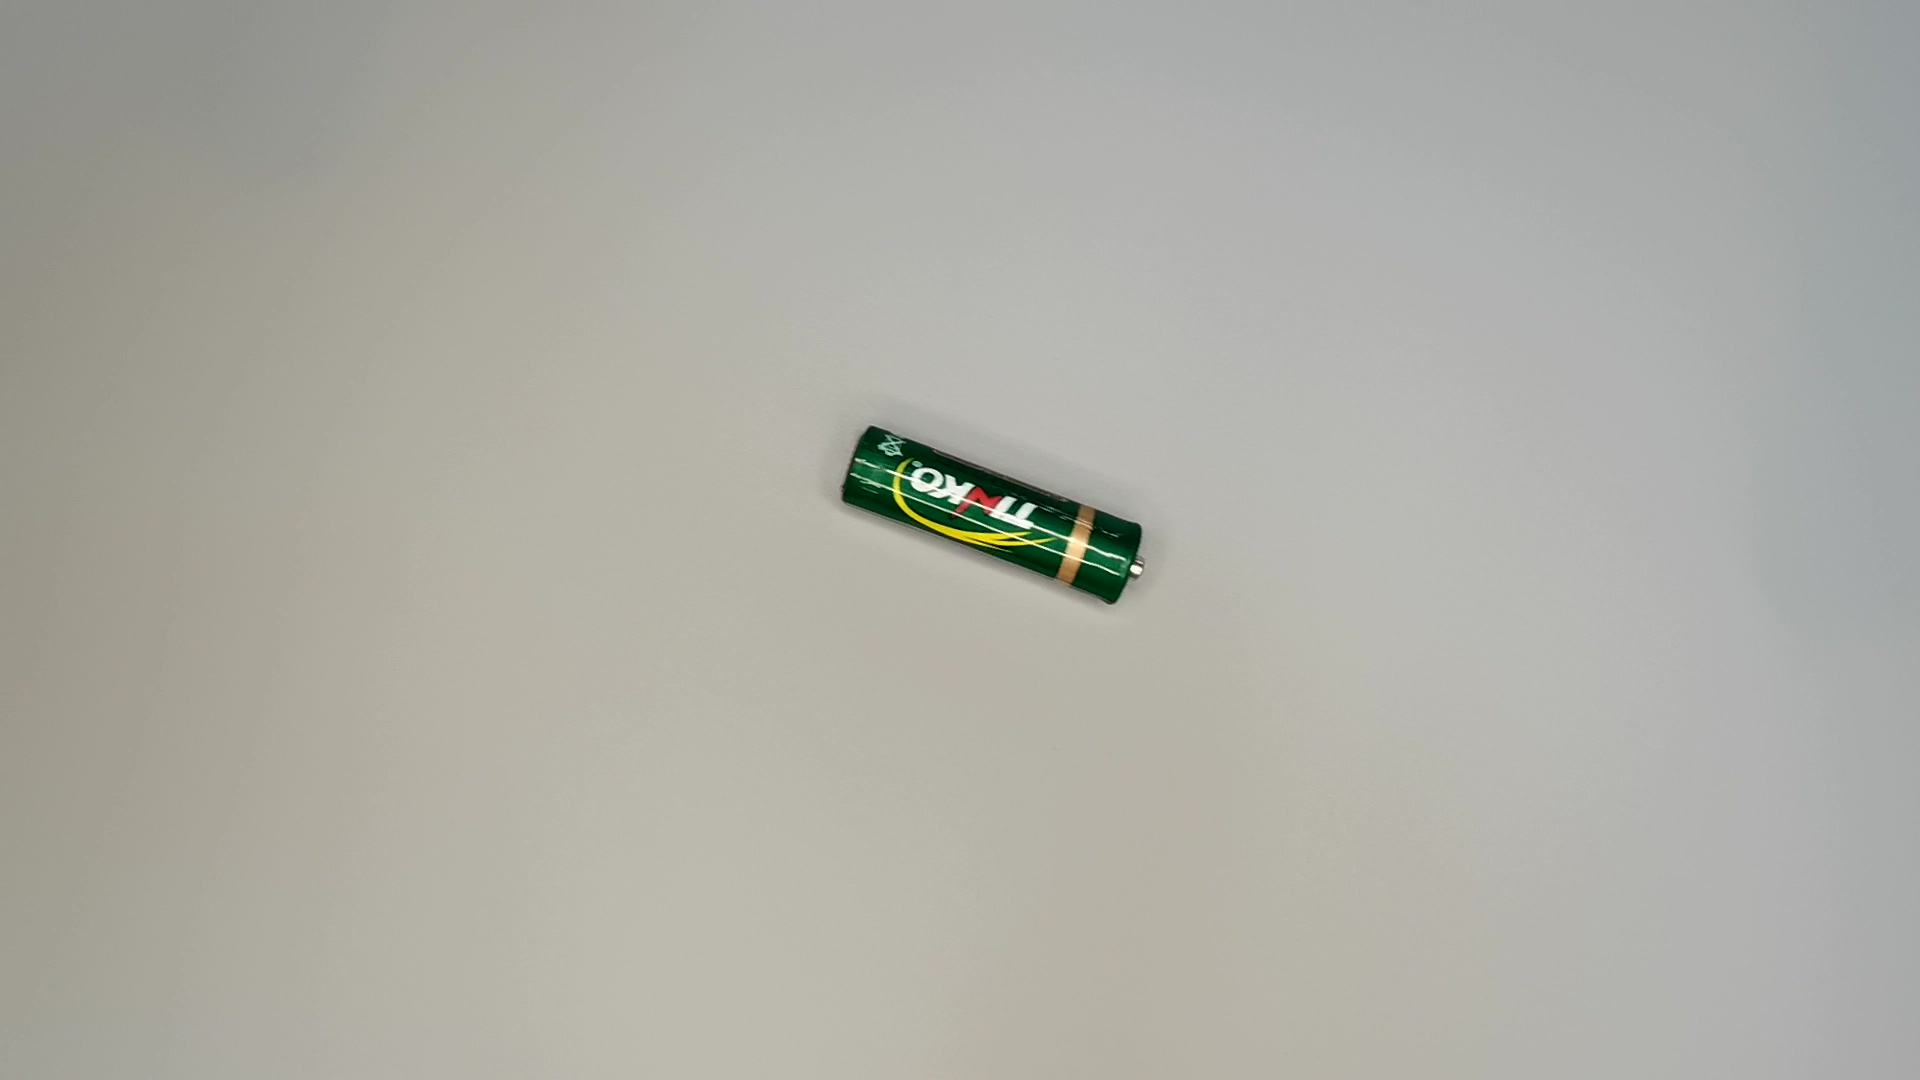battery: (837, 419, 1159, 618)
